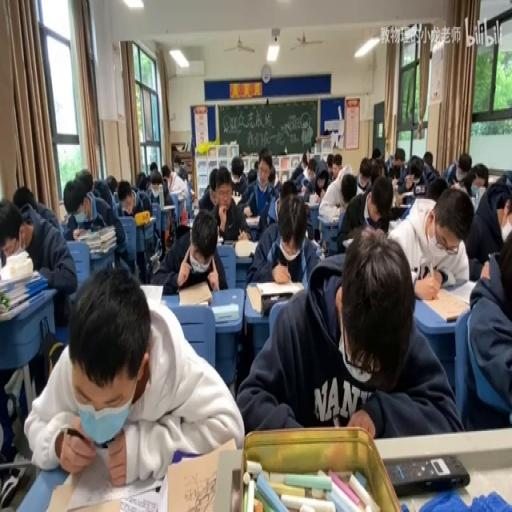calculator: (54, 452, 164, 511), (165, 439, 238, 512), (420, 286, 470, 321), (178, 278, 212, 304), (256, 280, 304, 296), (406, 196, 432, 219), (212, 301, 238, 323), (244, 284, 262, 314), (138, 283, 163, 304), (318, 204, 341, 224), (234, 238, 256, 258), (135, 213, 157, 226), (267, 194, 278, 220), (309, 238, 323, 254), (148, 249, 160, 267), (58, 200, 67, 222), (401, 189, 415, 202), (244, 215, 260, 226), (230, 192, 242, 206), (469, 192, 478, 210), (486, 175, 500, 183), (307, 198, 320, 206), (186, 218, 196, 228), (396, 204, 410, 210), (192, 200, 198, 214), (342, 239, 352, 247), (162, 204, 175, 210)
paper: (25, 263, 238, 487), (236, 229, 456, 441), (1, 189, 77, 330), (388, 181, 470, 293), (244, 186, 318, 282), (65, 171, 129, 273), (156, 204, 225, 292), (465, 170, 512, 268), (340, 170, 390, 250), (145, 166, 176, 240), (399, 154, 434, 196), (195, 166, 222, 215), (446, 149, 474, 188), (226, 154, 248, 196), (299, 156, 322, 196), (115, 178, 135, 212), (386, 146, 406, 180), (12, 185, 34, 215), (427, 176, 449, 200), (74, 168, 92, 195), (472, 162, 488, 188), (498, 199, 511, 231), (278, 178, 298, 198), (184, 175, 194, 215), (357, 161, 371, 189), (368, 158, 382, 183), (106, 174, 118, 194), (338, 161, 352, 176), (245, 166, 256, 185), (134, 172, 146, 189), (325, 154, 334, 176), (371, 145, 382, 161), (422, 151, 433, 166), (178, 165, 187, 183), (267, 165, 275, 185), (161, 165, 170, 181), (148, 160, 158, 174), (301, 152, 307, 168), (317, 179, 324, 192), (90, 179, 96, 192), (144, 182, 150, 193), (253, 161, 258, 169)
person: (385, 454, 470, 496), (221, 238, 237, 248), (412, 182, 426, 193)
